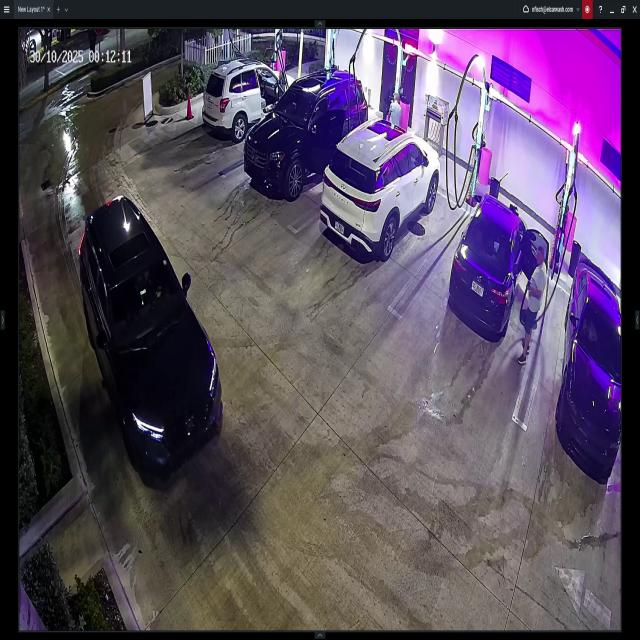Car: (70, 194, 222, 476), (242, 64, 364, 207), (328, 119, 439, 260), (463, 191, 548, 345), (560, 252, 620, 469), (209, 57, 298, 144)
